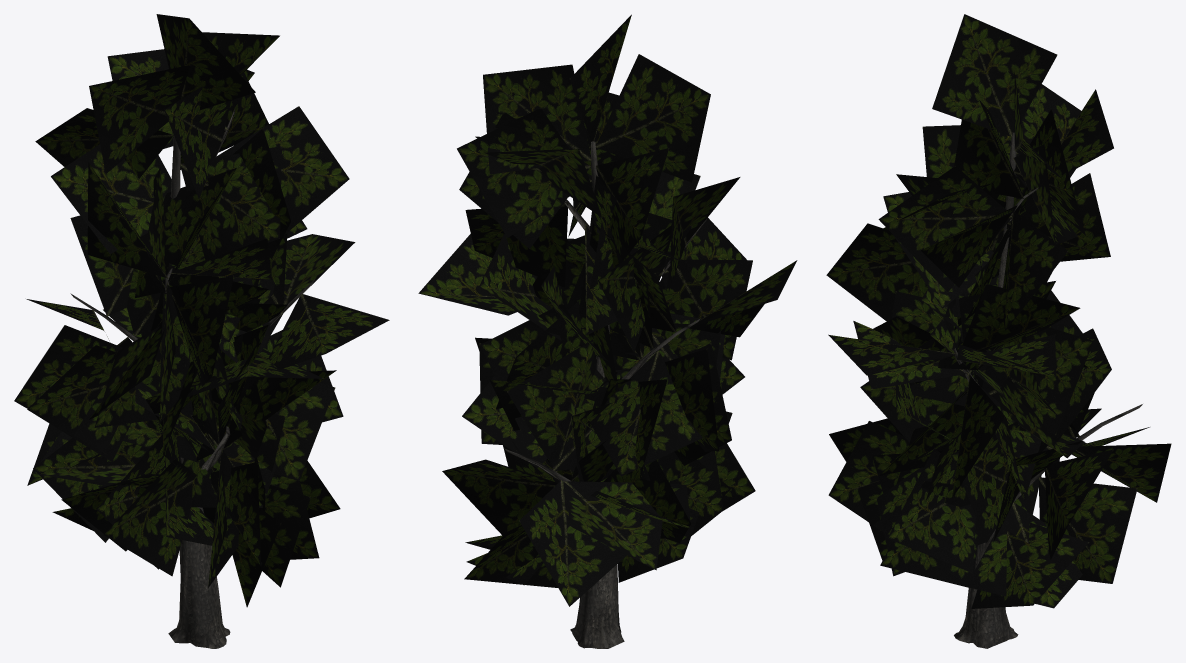
The model's file is tree_5.obj.
3 renders of one model, left to right at view 1: azimuth 30°, elevation 25°; view 2: azimuth 150°, elevation 25°; view 3: azimuth 270°, elevation 25°, orthographic. The views are drawn at different scales.
Visible parts, largest first — view 1: tree_5_leaves, tree_5; view 2: tree_5_leaves, tree_5; view 3: tree_5_leaves, tree_5.
Part boxes in pixels (left/top/right/bottom): tree_5_leaves: left=14, top=14, right=389, bottom=607; tree_5: left=70, top=109, right=314, bottom=648; tree_5_leaves: left=418, top=14, right=797, bottom=606; tree_5: left=504, top=141, right=706, bottom=648; tree_5_leaves: left=826, top=14, right=1171, bottom=608; tree_5: left=953, top=132, right=1142, bottom=648.
Size of the model in its own units: 3.74 by 6.91 by 3.54.
